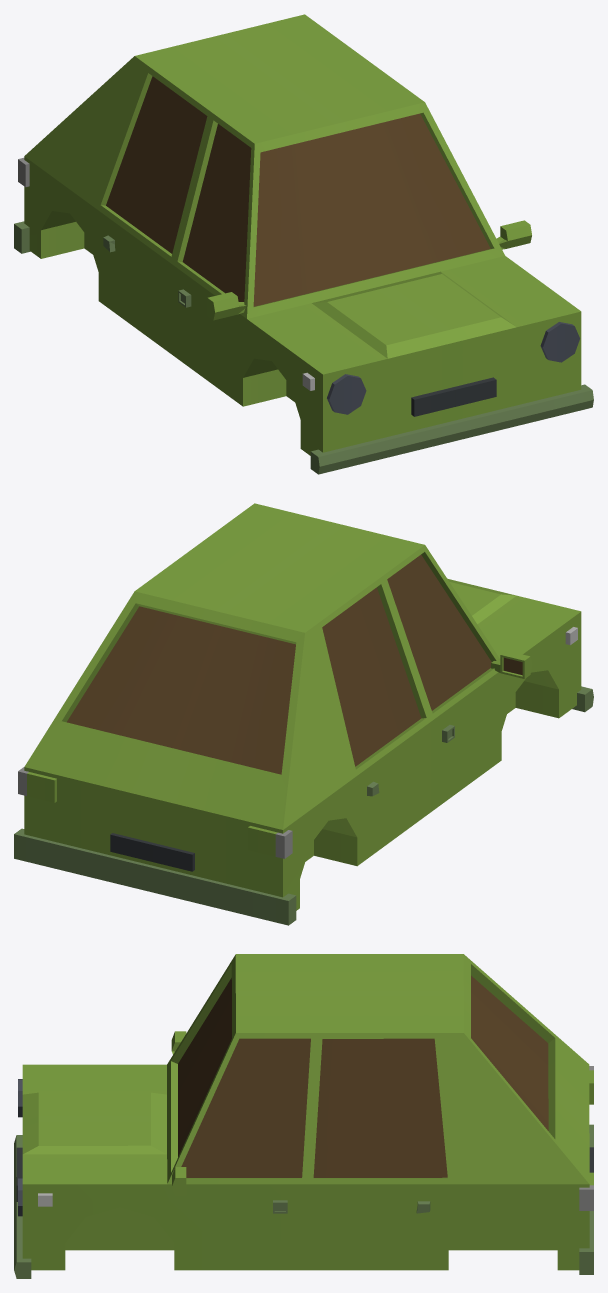
File: Car_20.fbx
3 renders of one model, top to bottom at view 1: azimuth 30°, elevation 25°; view 2: azimuth 150°, elevation 25°; view 3: azimuth 270°, elevation 25°, orthographic. The views are drawn at different scales.
Parts seen in each view (by area): view 1: Car_20; view 2: Car_20; view 3: Car_20.
Part boxes in pixels (bbox=[...]): Car_20: bbox=[14, 14, 593, 474]; Car_20: bbox=[14, 503, 593, 925]; Car_20: bbox=[14, 954, 593, 1278].
Bounding box in the file's own units: 1.96 × 1.38 × 3.28.
